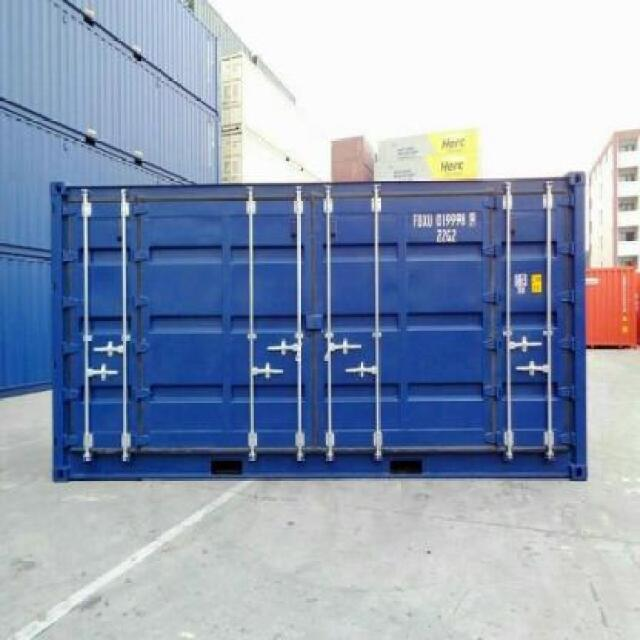ISO: (432, 230, 458, 246)
container_number: (408, 210, 486, 229)
